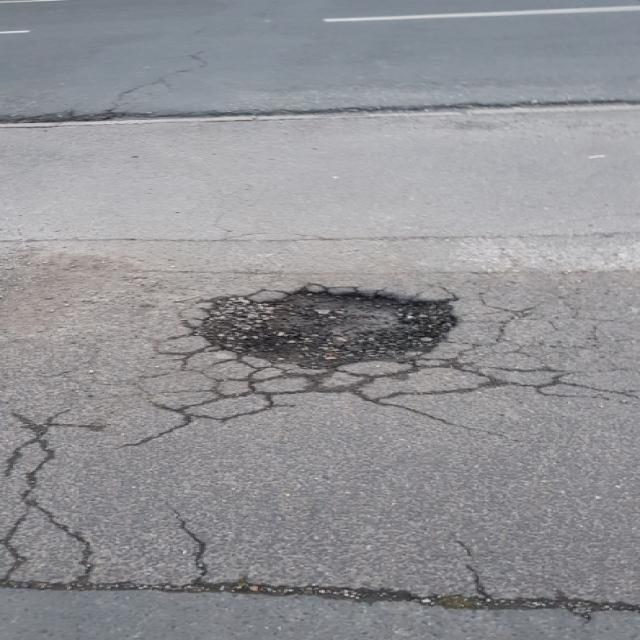pothole: (186, 280, 469, 376)
